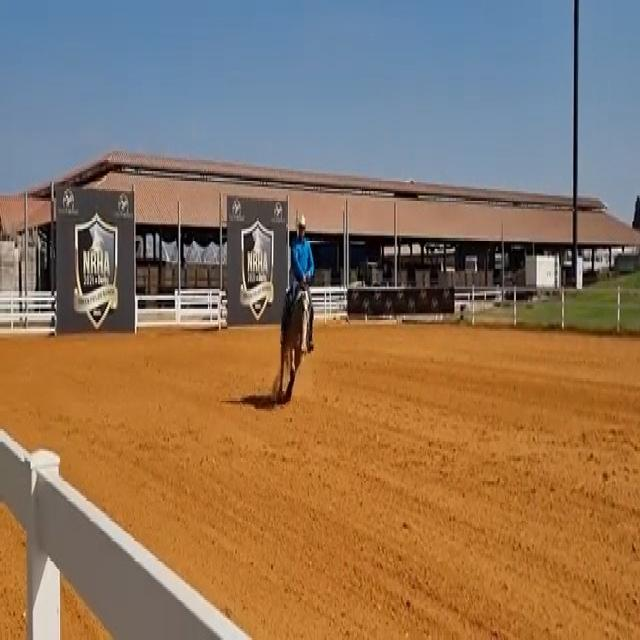horse: (275, 280, 312, 404)
